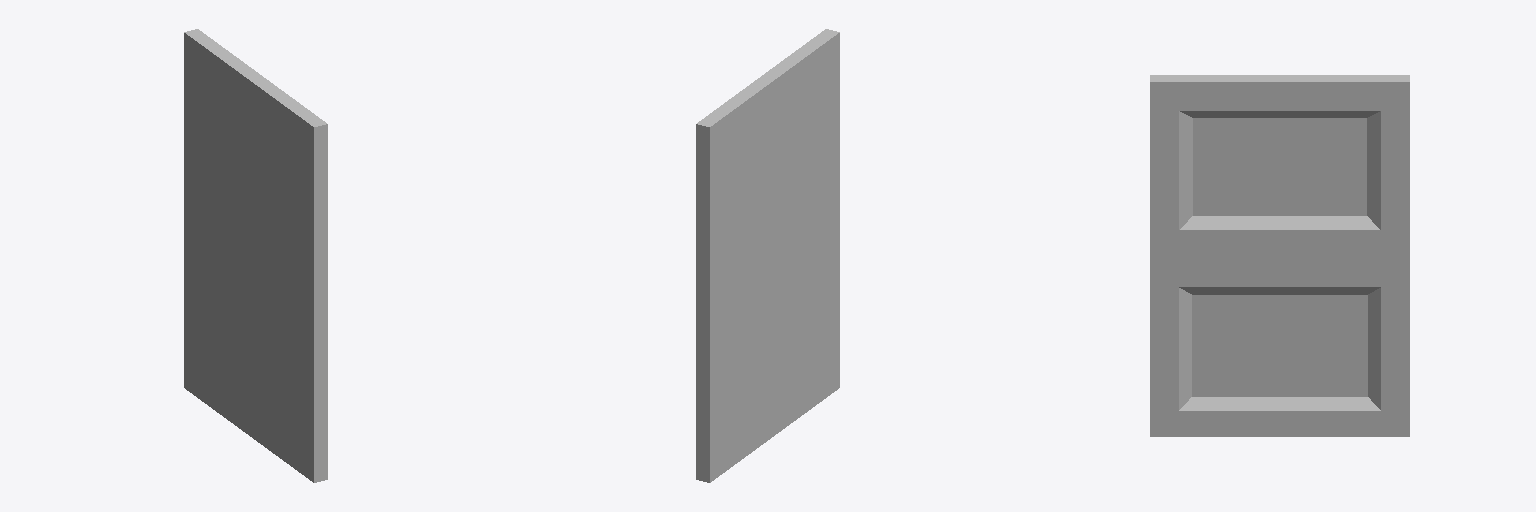
Rendered from door.obj.
The picture shows the model from 3 angles: view 1: azimuth 30°, elevation 25°; view 2: azimuth 150°, elevation 25°; view 3: azimuth 270°, elevation 25°; orthographic projection.
Visible parts, largest first — view 1: Door; view 2: Door; view 3: Door.
Part boxes in pixels (x1,y1,x2,y2): Door: (184,29,327,482); Door: (696,29,839,482); Door: (1150,75,1409,436).
Bounding box in the file's own units: 0.0821 × 2 × 1.32.